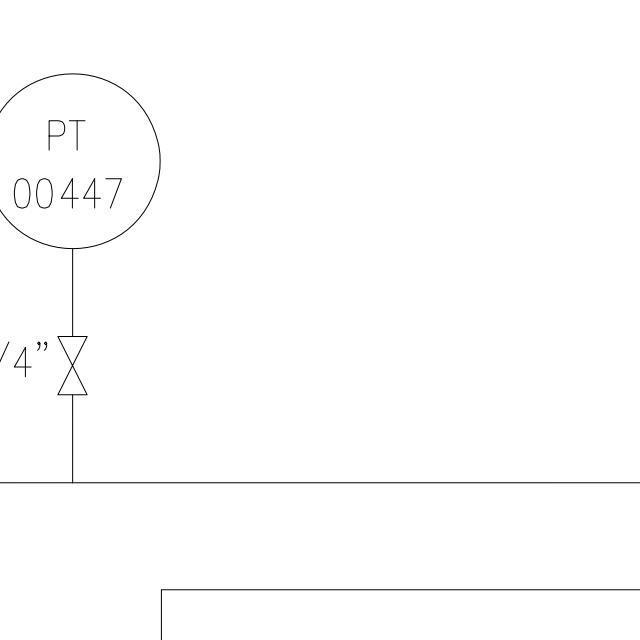GV: (54, 329, 90, 402)
